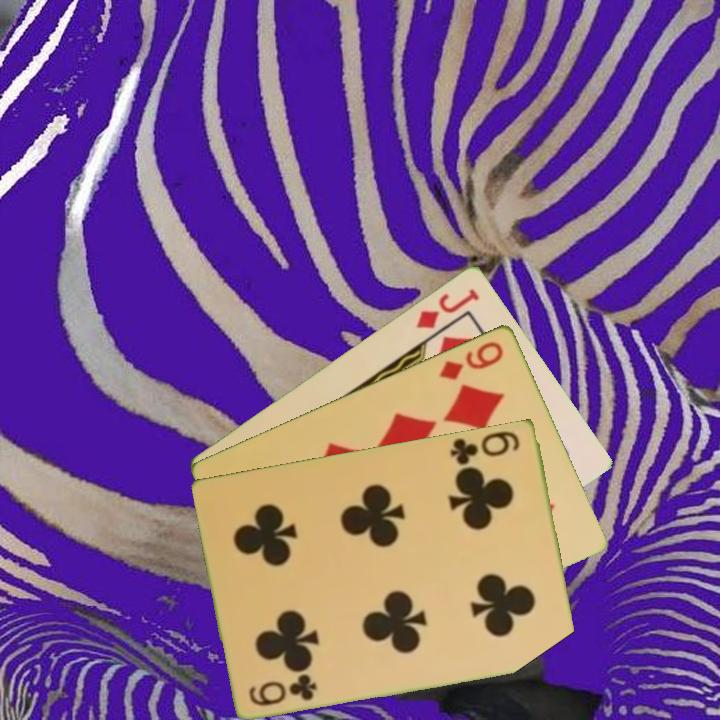6c: (447, 427, 523, 468), (245, 671, 320, 709)
9d: (436, 337, 507, 382)
Jd: (413, 284, 482, 332)
